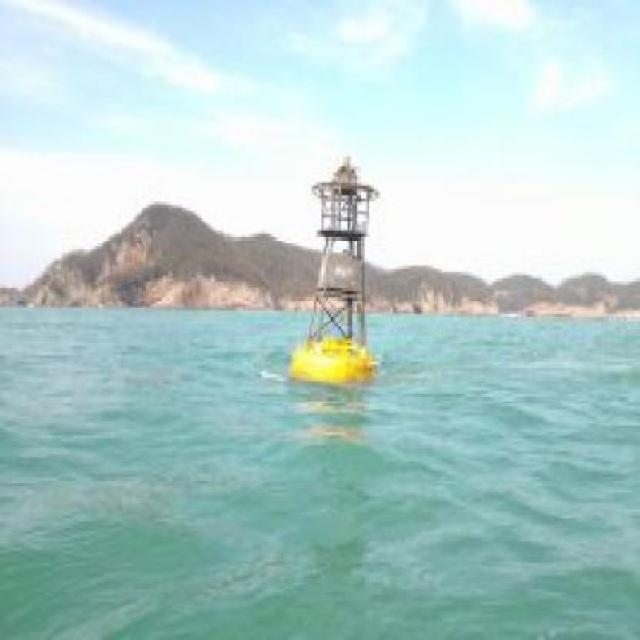buoy: (276, 141, 395, 398)
